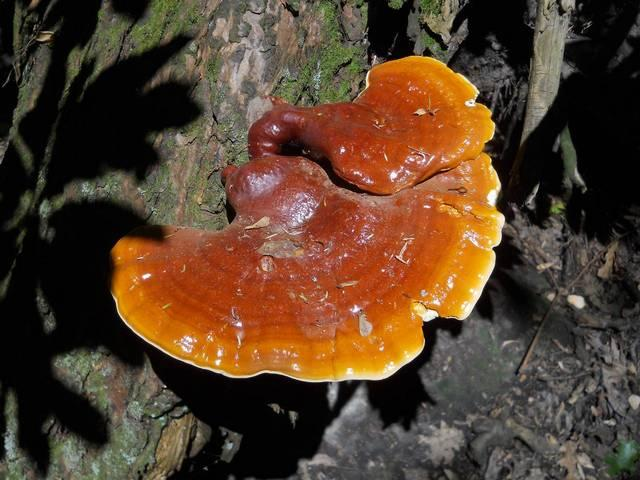Non-edible Mushroom: (107, 54, 506, 384)
